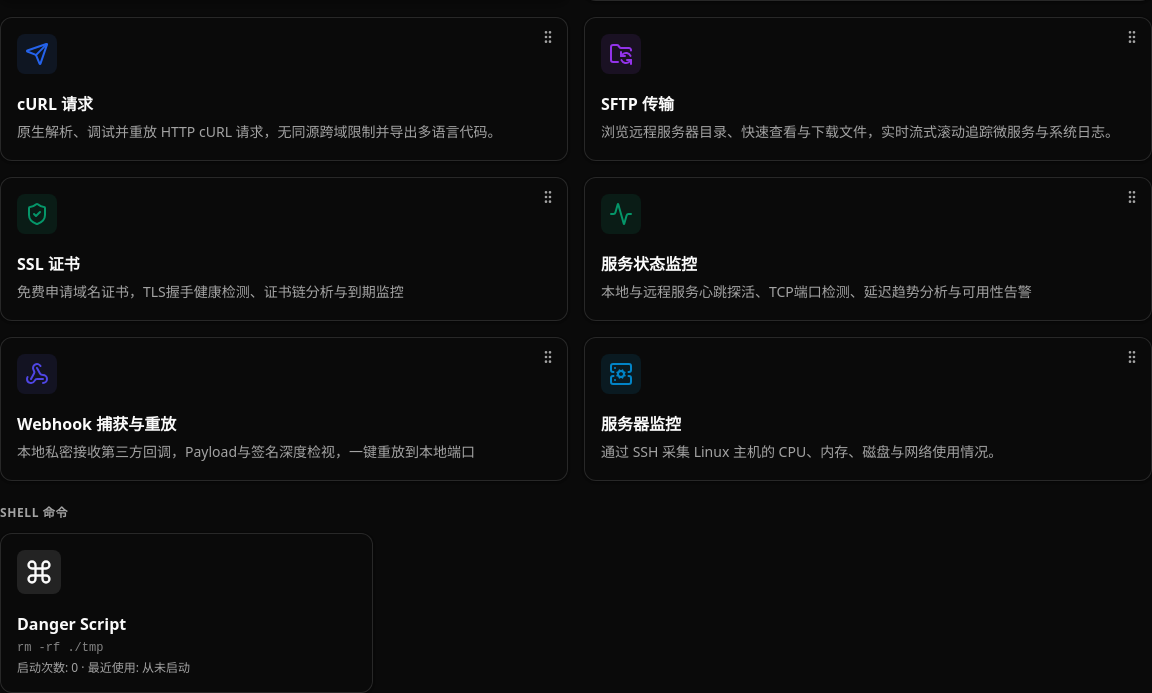
Test case: Launcher › cancels untrusted script launch without executing
(page scrolled)
Click the heading "Danger Script": (72, 624) [17,612,126,636]
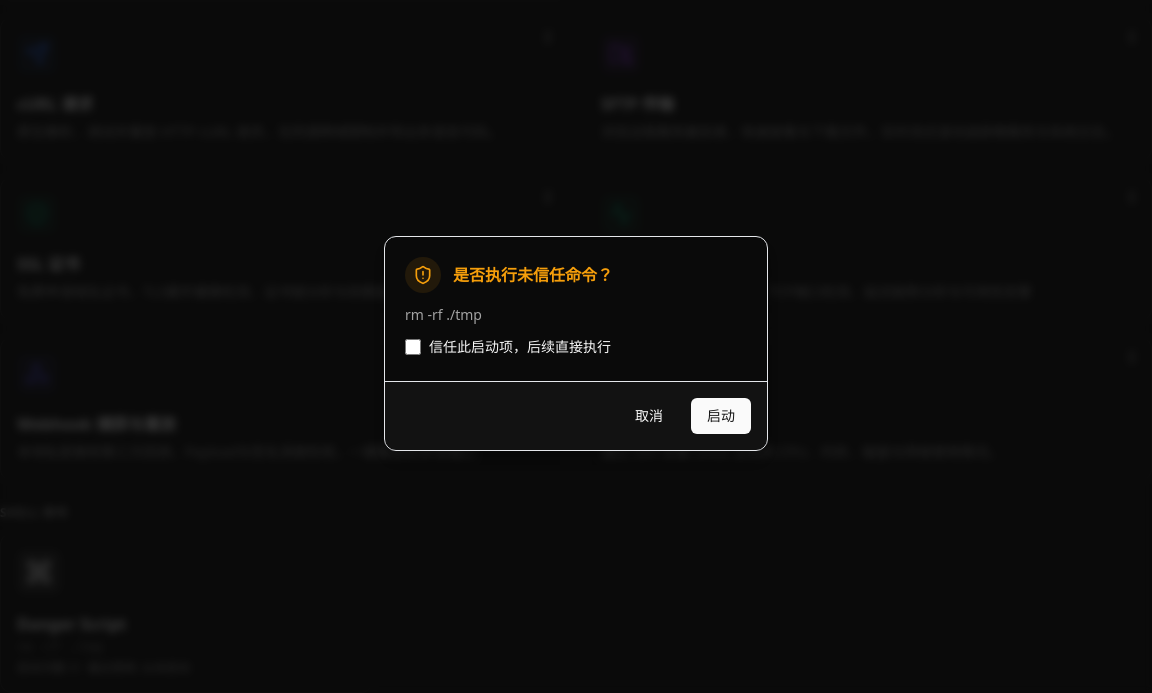
Click the button "取消": (649, 416) [619,398,679,434]
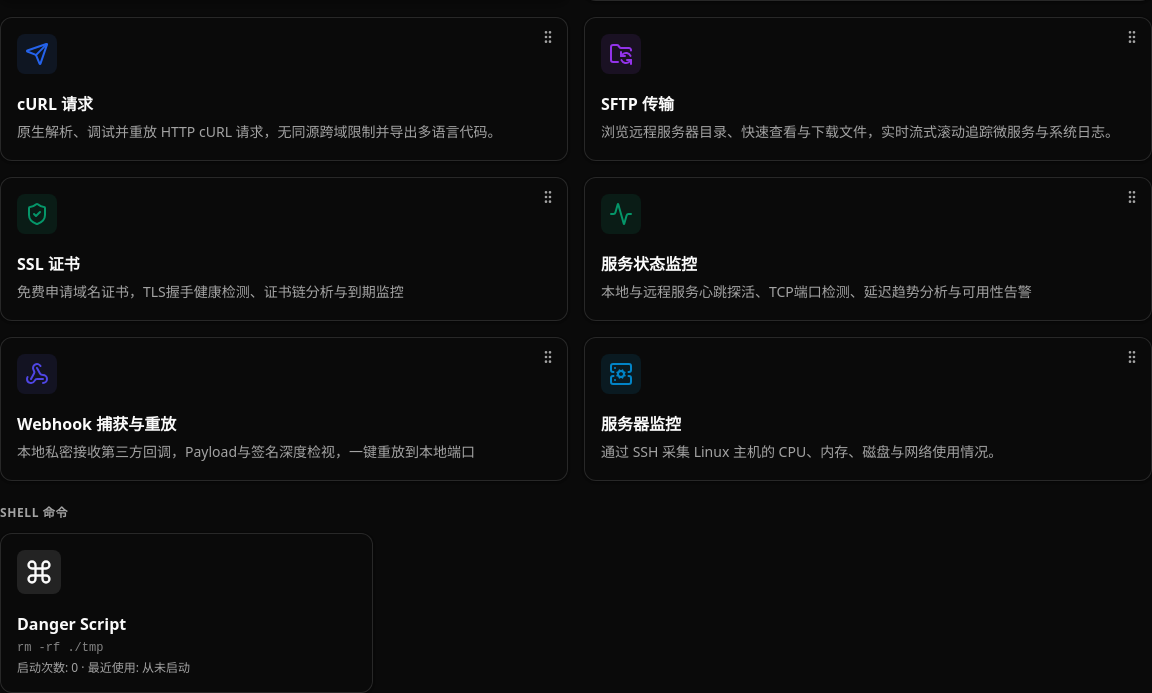
Now the heading "是否执行未信任命令？" is gone
